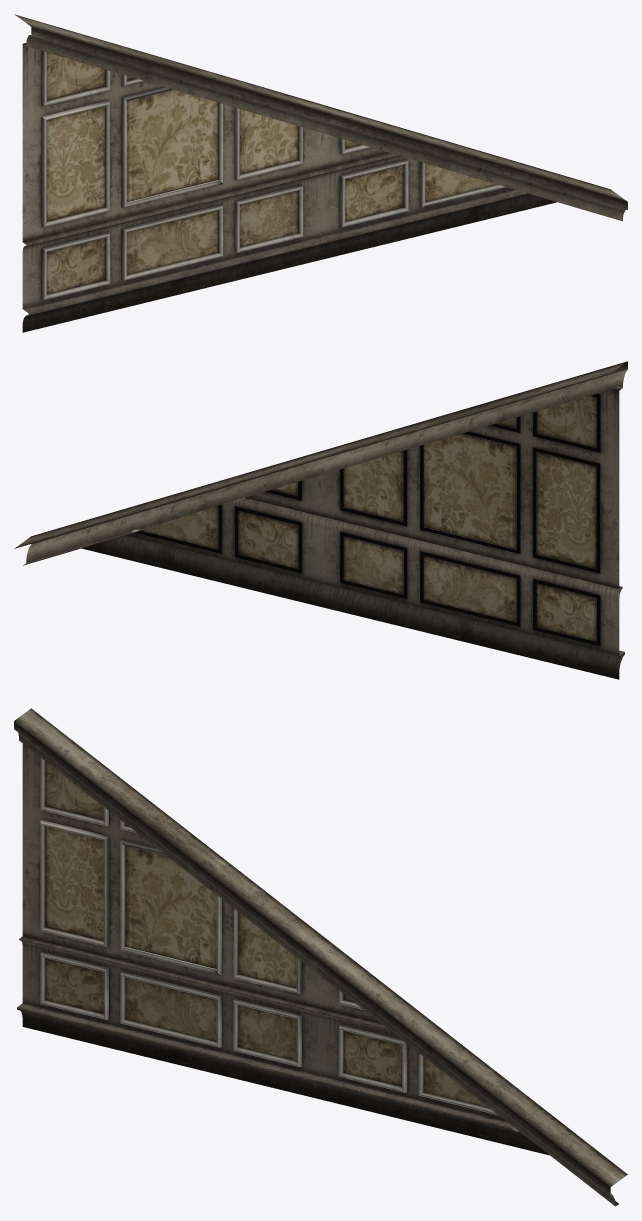
Rendered from default_stairs_01.DAE.
3 renders of one model, top to bottom at view 1: azimuth 30°, elevation 25°; view 2: azimuth 150°, elevation 25°; view 3: azimuth 330°, elevation 25°, orthographic.
Parts seen in each view (by area): view 1: Object010; view 2: Object010; view 3: Object010.
Boxes of the visible parts, x1,y1,x2,y2 form: Object010: (14,14,627,332); Object010: (14,361,627,679); Object010: (14,708,627,1206).
Size of the model in its own units: 8 by 4.4 by 0.4027.
